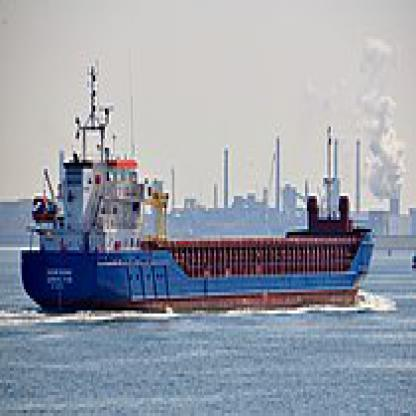Container Ship: (18, 60, 377, 313)
